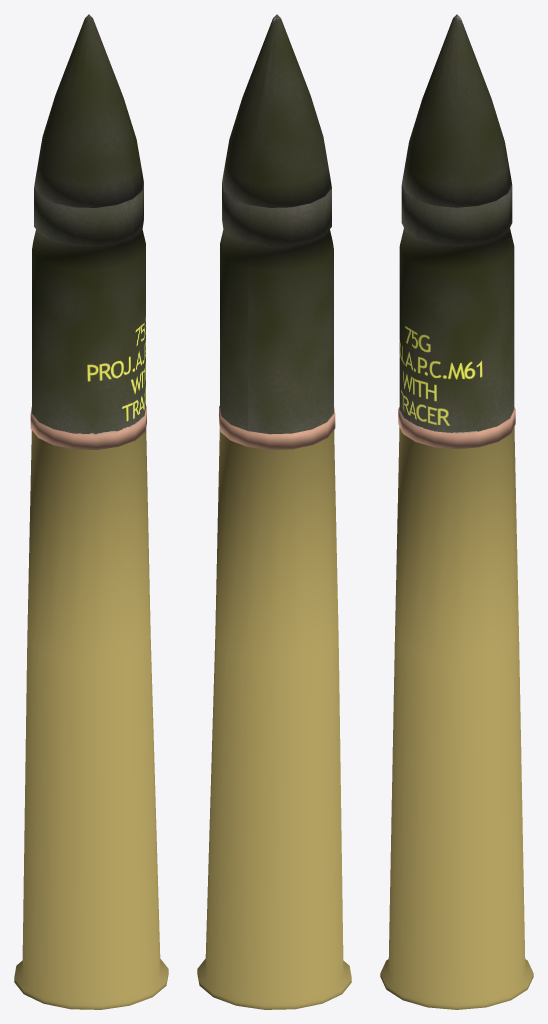
The picture shows the model from 3 angles, left to right: view 1: azimuth 30°, elevation 25°; view 2: azimuth 150°, elevation 25°; view 3: azimuth 270°, elevation 25°; orthographic projection.
Parts seen in each view (by area): view 1: M61; view 2: M61; view 3: M61.
Boxes of the visible parts, bbox=[...] form: M61: bbox=[14, 14, 168, 1009]; M61: bbox=[197, 14, 351, 1009]; M61: bbox=[380, 14, 533, 1009].
Bounding box in the file's own units: 4.2 × 28.53 × 4.12.
3 materials, 3 textured.
